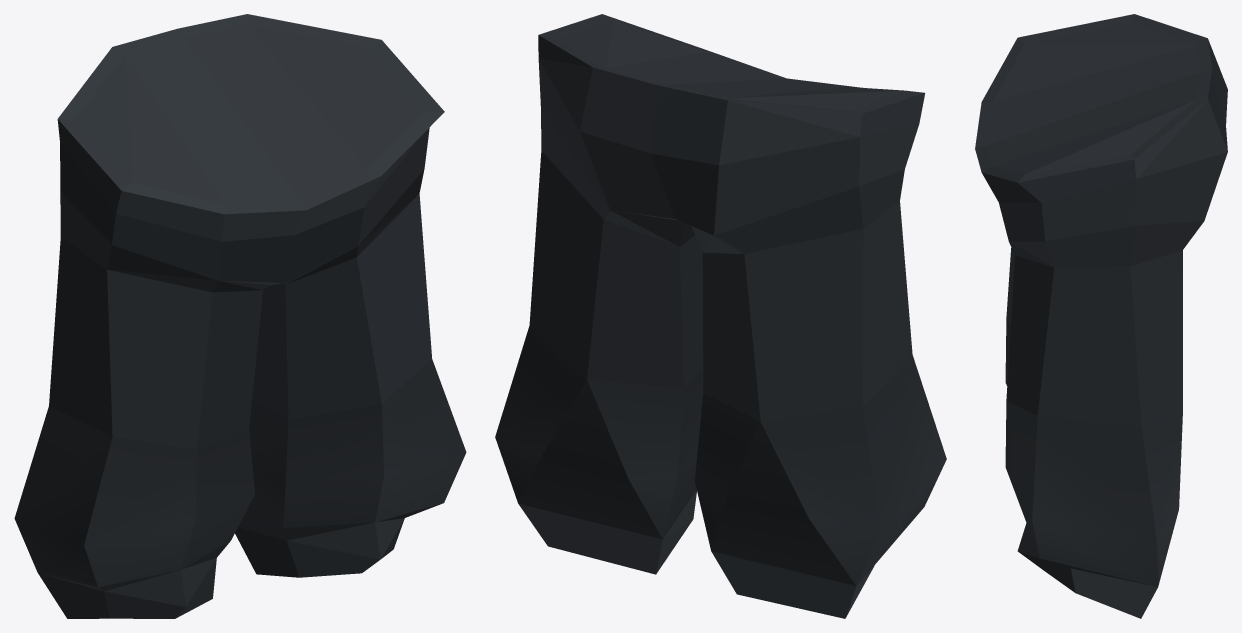
The model's file is Chr_Hips_Female_14_Static.fbx.
3 renders of one model, left to right at view 1: azimuth 30°, elevation 25°; view 2: azimuth 150°, elevation 25°; view 3: azimuth 270°, elevation 25°, orthographic. The views are drawn at different scales.
Parts seen in each view (by area): view 1: Chr_Hips_Female_14_Static; view 2: Chr_Hips_Female_14_Static; view 3: Chr_Hips_Female_14_Static.
Boxes of the visible parts, x1=… form: Chr_Hips_Female_14_Static: x1=14, y1=14, x2=466, y2=618; Chr_Hips_Female_14_Static: x1=495, y1=14, x2=946, y2=618; Chr_Hips_Female_14_Static: x1=975, y1=14, x2=1227, y2=618.
Size of the model in its own units: 0.4446 by 0.5806 by 0.2743.
